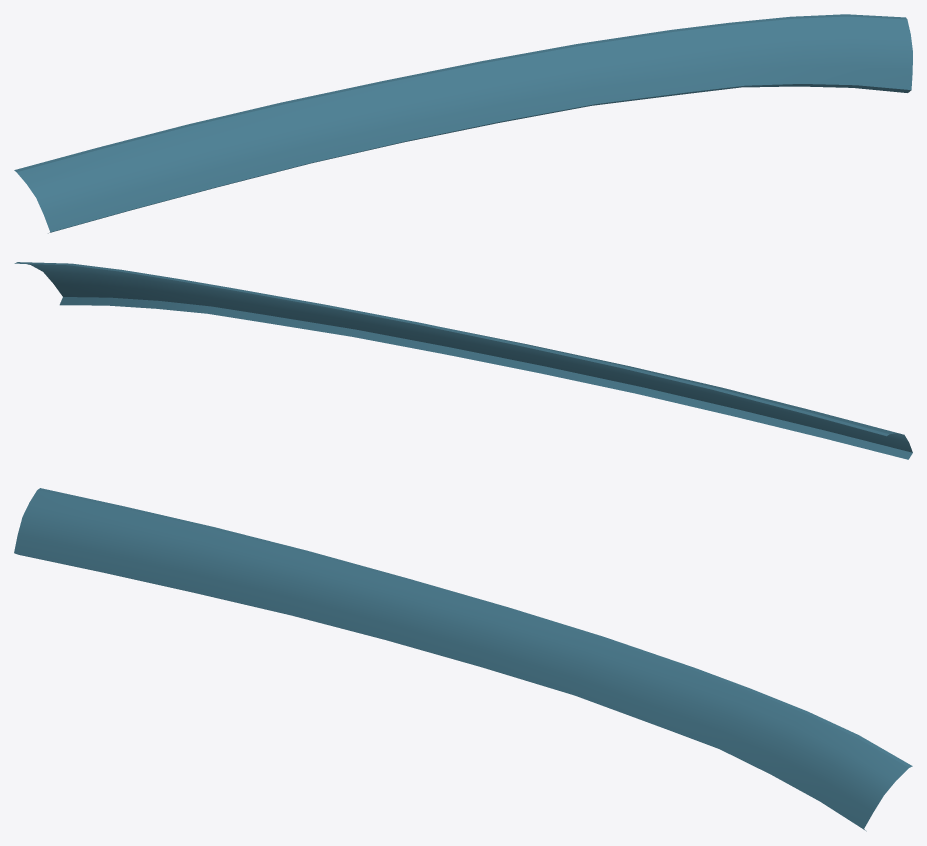
3 views of the same model, one above another, from view 1: azimuth 30°, elevation 25°; view 2: azimuth 150°, elevation 25°; view 3: azimuth 330°, elevation 25° (orthographic).
Visible parts, largest first — view 1: Y175_18_18A5_R_1_DaS_Y175_18_18A5_R, Y175_18_18A5_R_1_DaS_Y175_18_18A5_R_E; view 2: Y175_18_18A5_R_1_DaS_Y175_18_18A5_R, Y175_18_18A5_R_1_DaS_Y175_18_18A5_R_E; view 3: Y175_18_18A5_R_1_DaS_Y175_18_18A5_R, Y175_18_18A5_R_1_DaS_Y175_18_18A5_R_E.
Boxes of the visible parts, left/top/right/bottom form: Y175_18_18A5_R_1_DaS_Y175_18_18A5_R: left=17, top=16, right=912, bottom=232; Y175_18_18A5_R_1_DaS_Y175_18_18A5_R_E: left=14, top=14, right=911, bottom=233; Y175_18_18A5_R_1_DaS_Y175_18_18A5_R: left=27, top=264, right=912, bottom=452; Y175_18_18A5_R_1_DaS_Y175_18_18A5_R_E: left=14, top=262, right=912, bottom=459; Y175_18_18A5_R_1_DaS_Y175_18_18A5_R: left=14, top=490, right=908, bottom=828; Y175_18_18A5_R_1_DaS_Y175_18_18A5_R_E: left=15, top=488, right=912, bottom=831.
Size of the model in its own units: 74.45 by 8.85 by 5.84.
